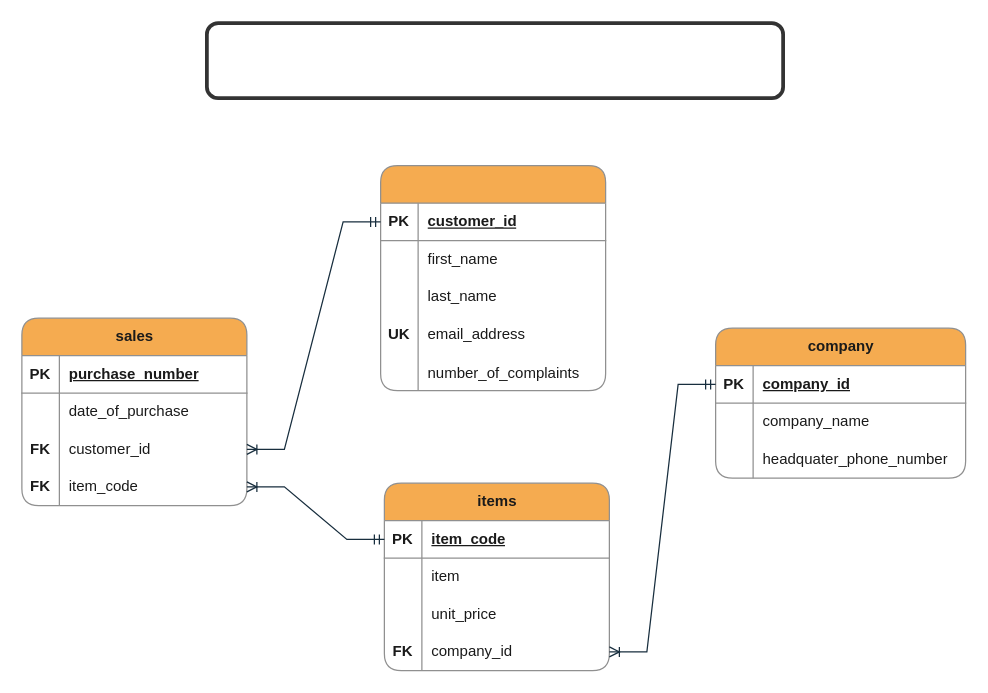
The diagram is 988 pixels wide and 693 high, and some of its shapes have lost their labels. Each missing label, with the box of its shape:
customers: (379, 164, 606, 391)
Sales Database ERD Diagram: (204, 21, 784, 99)
